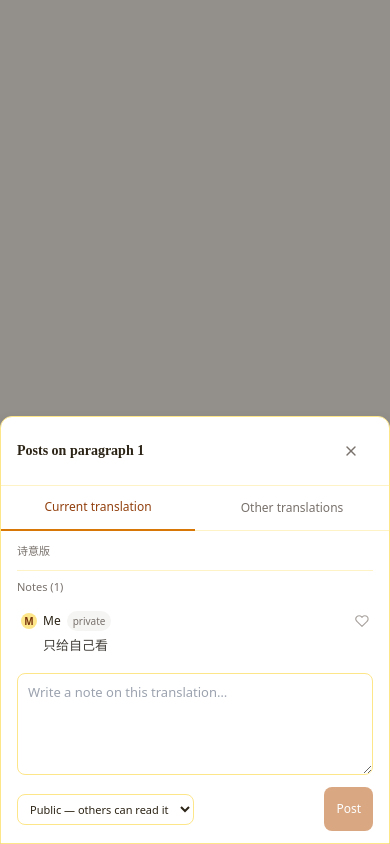
it: a private note is badged in its detail too, and the badge follows an edit
Click the button with aria-label "Open comment by Me".
click(89, 621)  # box [13,603,377,664]
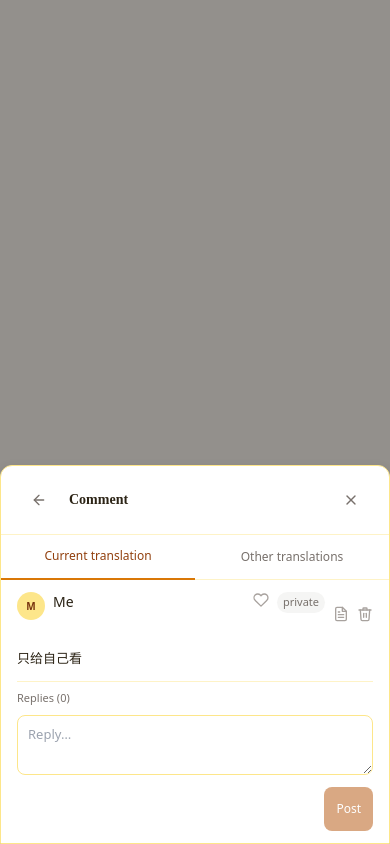
Expected: the text with test id "comment-detail-private" reads "private", [283,594,319,609]
# Making it public in place drops the badge
Click the button named "Edit note".
click(341, 614)  # box [333,592,349,636]
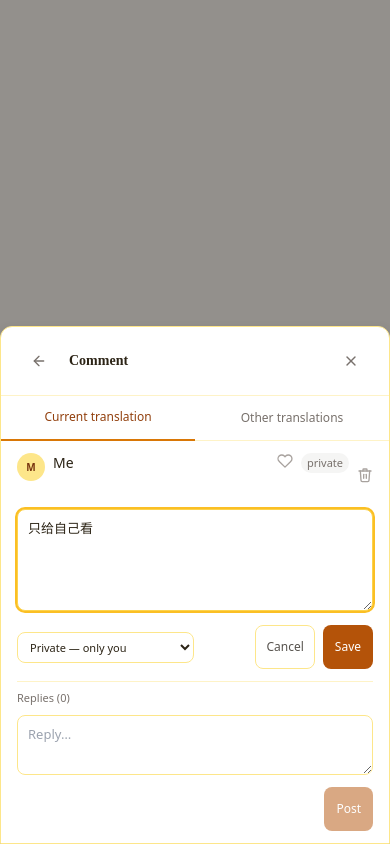
Select "Public — others can read it" in the dropdown named "Edit note visibility" at point(106, 647), box [17,632,194,663]
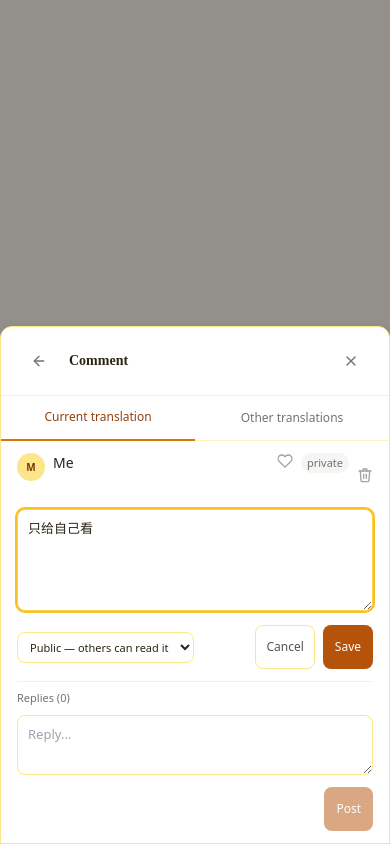
Click the button "Save".
click(348, 647)  # box [323,625,373,669]
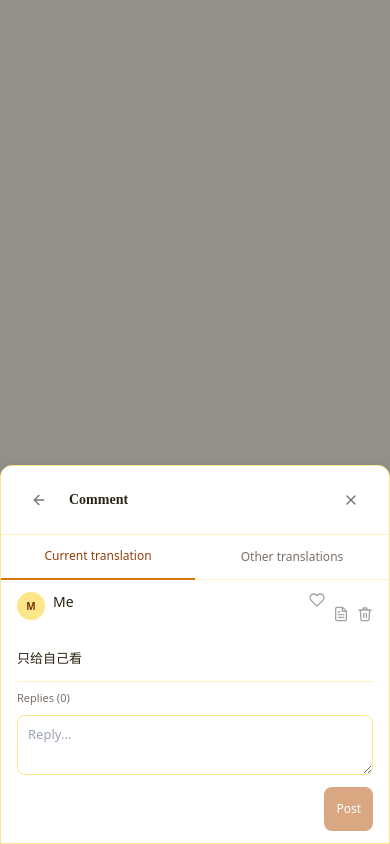
Result: the text with test id "comment-detail-private" is gone
